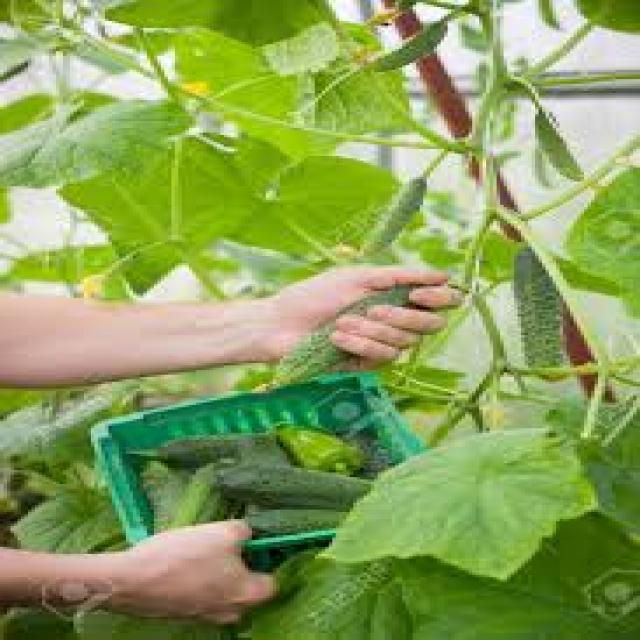basket: (85, 338, 429, 548)
